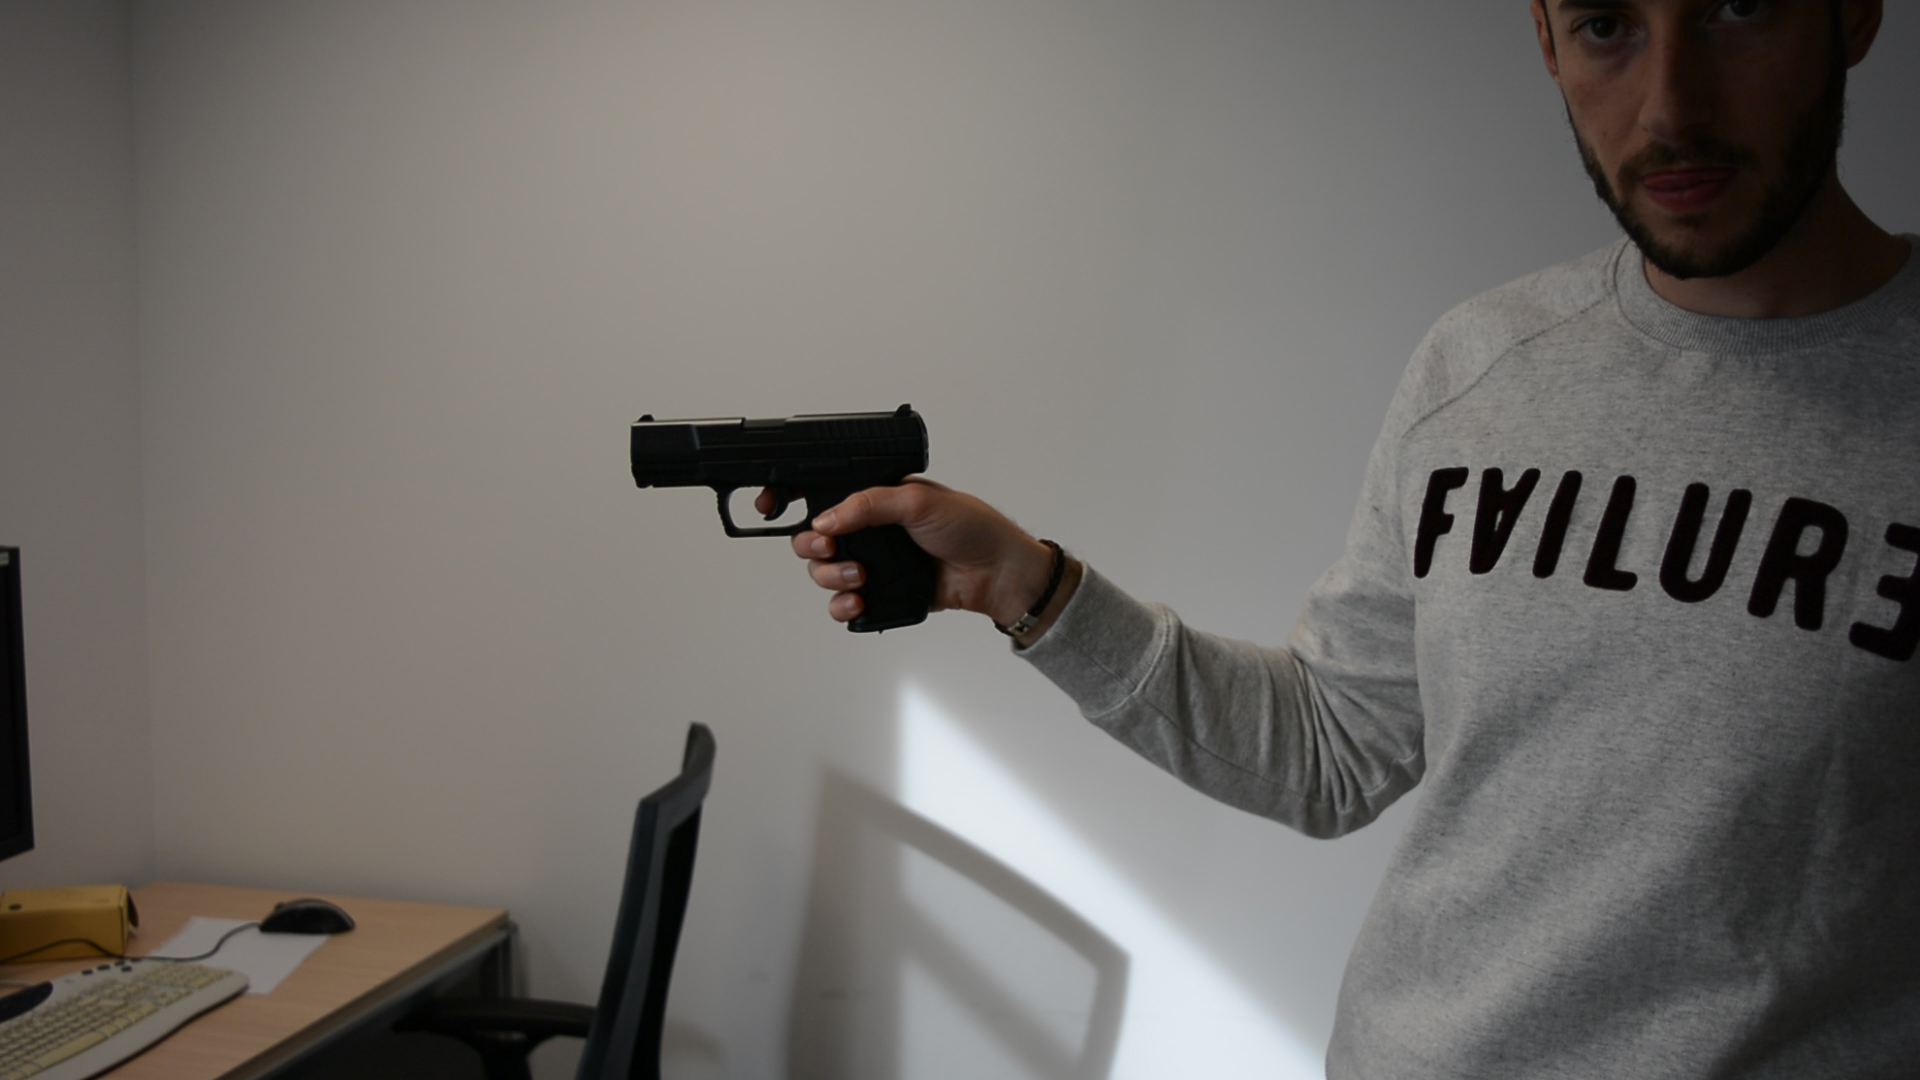pistol: (628, 401, 934, 637)
